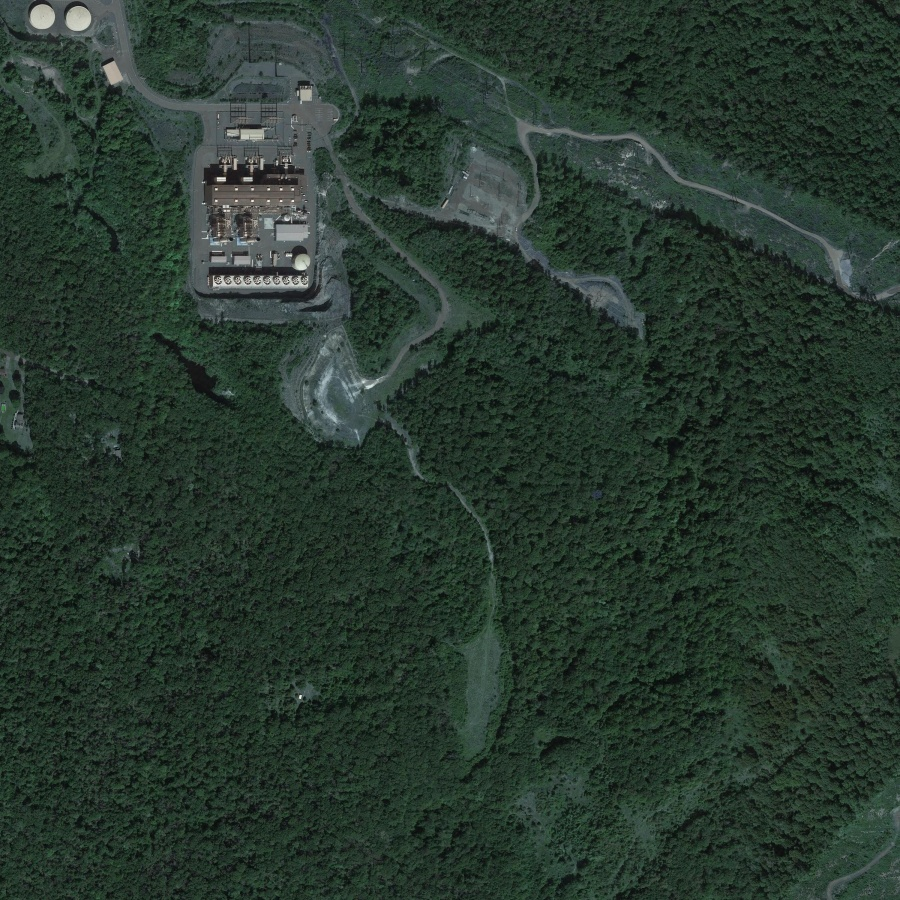PowerPlant: (195, 65, 341, 305)
